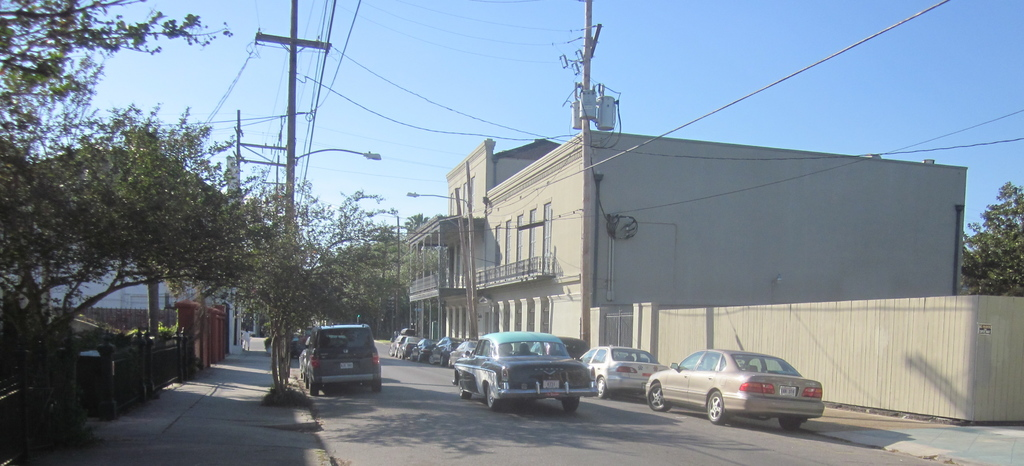Car: (392, 334, 827, 426), (448, 332, 596, 410), (306, 318, 382, 387)
